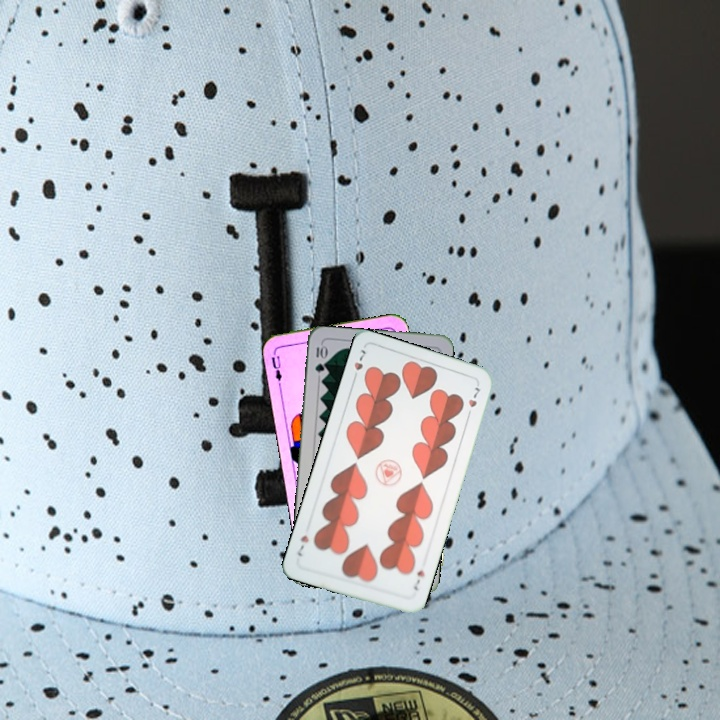EU: (267, 352, 284, 388)
G10: (311, 341, 328, 375)
H7: (349, 345, 368, 384), (409, 566, 427, 593)
